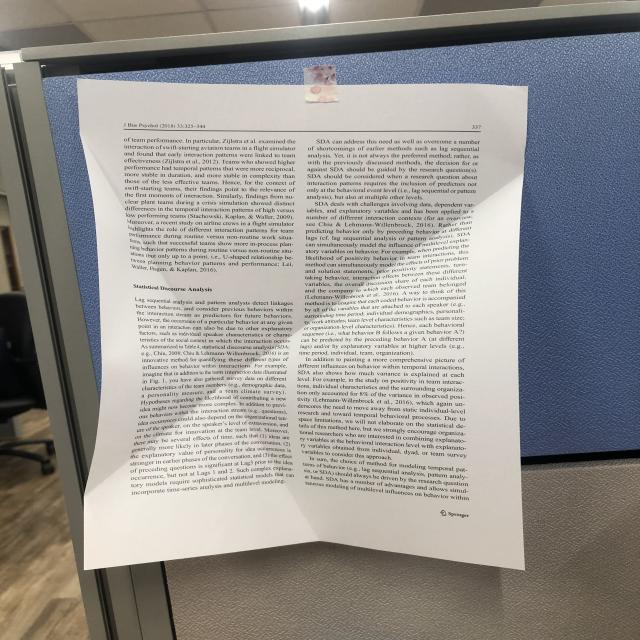kertas: (78, 80, 527, 569)
